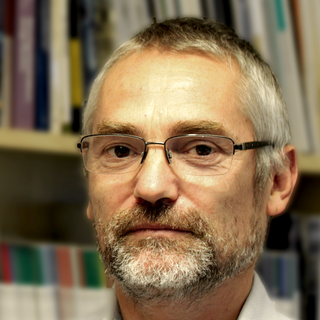eye: (181, 141, 224, 163), (97, 142, 139, 162)
